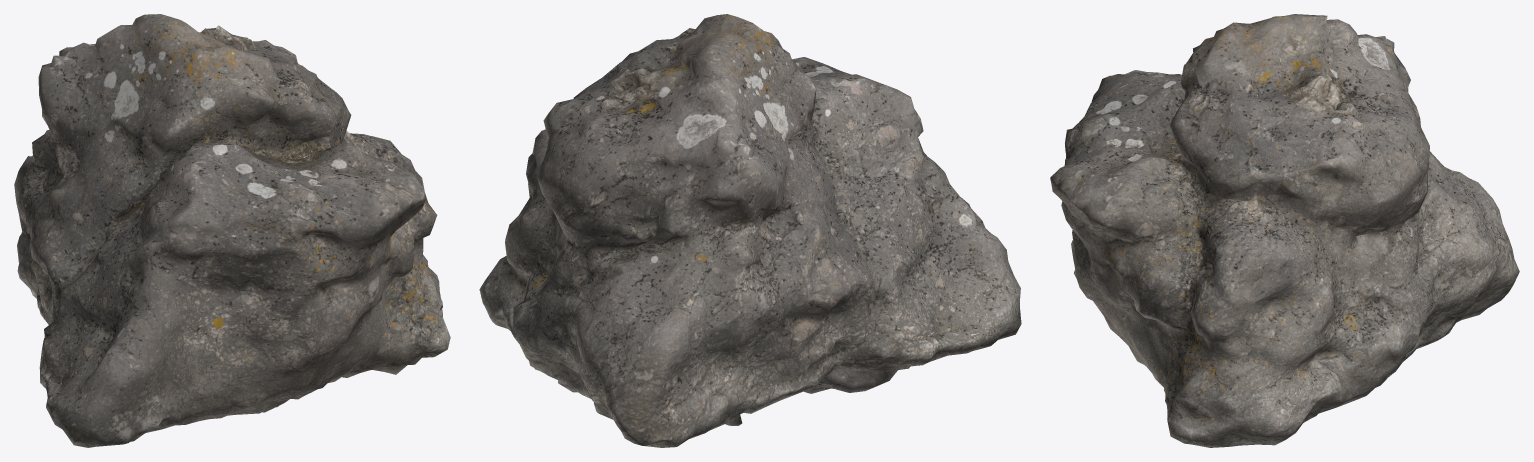
Rendered from SM_wfjvddybw_tier_2.gltf.
3 renders of one model, left to right at view 1: azimuth 30°, elevation 25°; view 2: azimuth 150°, elevation 25°; view 3: azimuth 270°, elevation 25°, orthographic. The views are drawn at different scales.
Visible parts, largest first — view 1: SM_wfjvddybw; view 2: SM_wfjvddybw; view 3: SM_wfjvddybw.
Boxes of the visible parts, x1,y1,x2,y2 form: SM_wfjvddybw: (14, 14, 450, 447); SM_wfjvddybw: (479, 14, 1021, 447); SM_wfjvddybw: (1050, 14, 1519, 447).
Size of the model in its own units: 1.9 by 1.47 by 1.83.
1 material, 1 textured.
